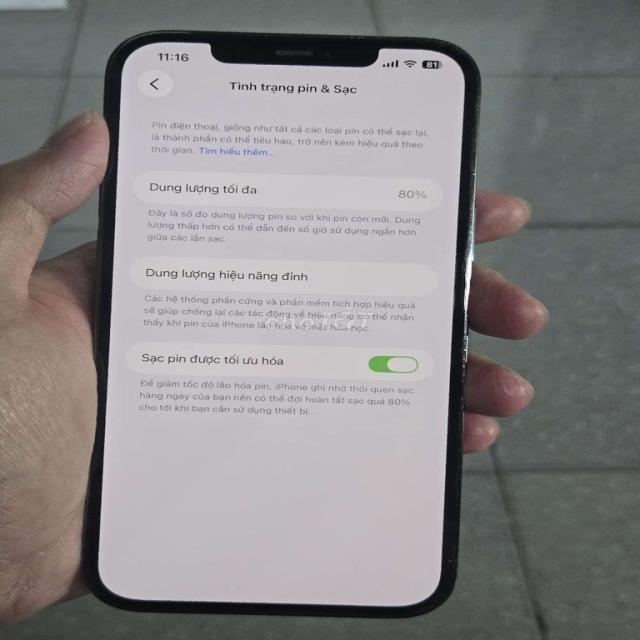scratch: (454, 154, 478, 422)
